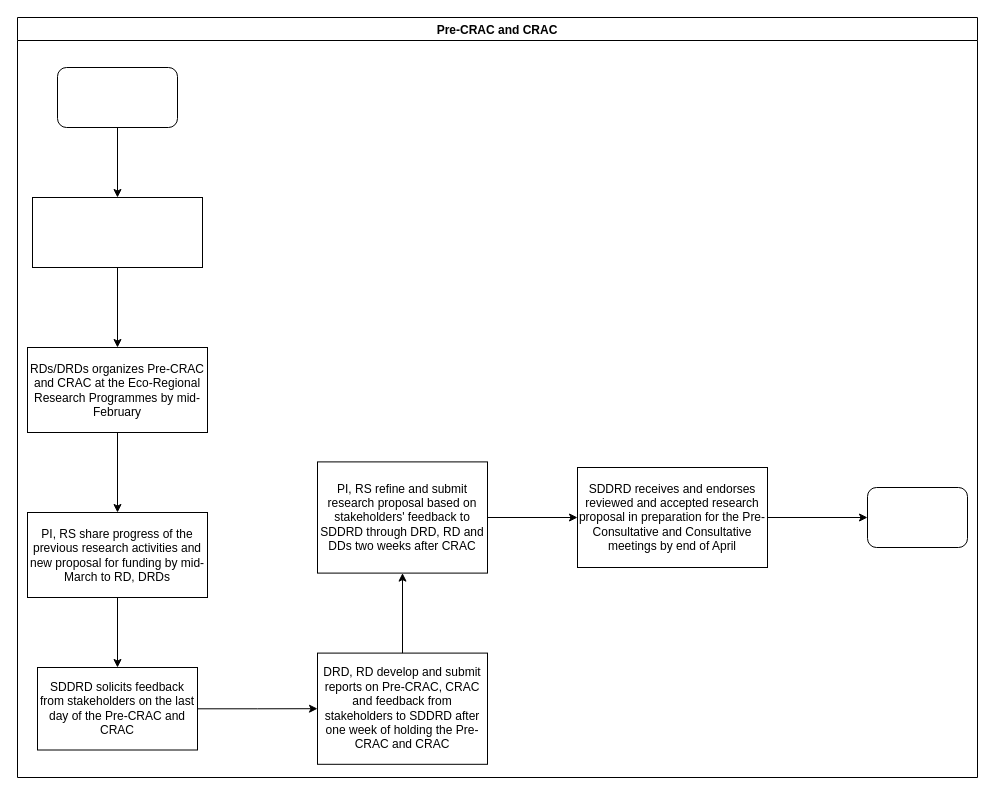
The diagram is 995 pixels wide and 795 high, and some of its shapes have lost their labels. The centre of each missing label's shape, as x and y in pixels:
"End" goes at (x=917, y=517).
"SDDRD sends notification to organize Pre-CRACs and CRACs by January" goes at (x=117, y=232).
"Start" goes at (x=117, y=97).
